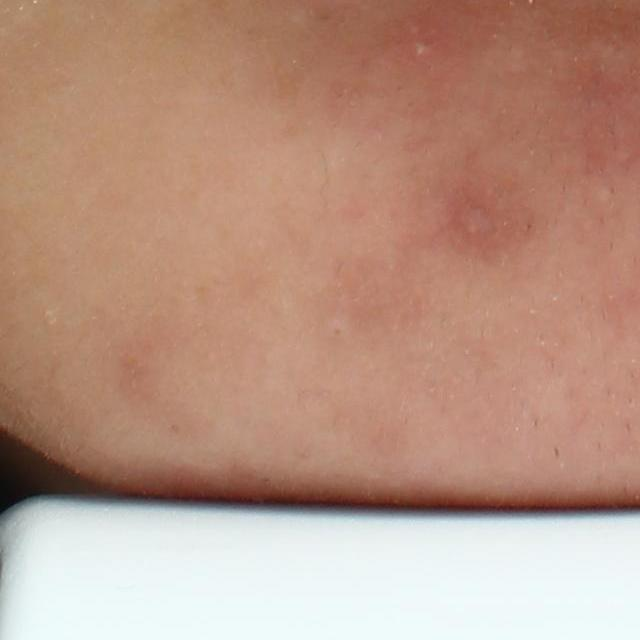comedo: (328, 322, 348, 342)
